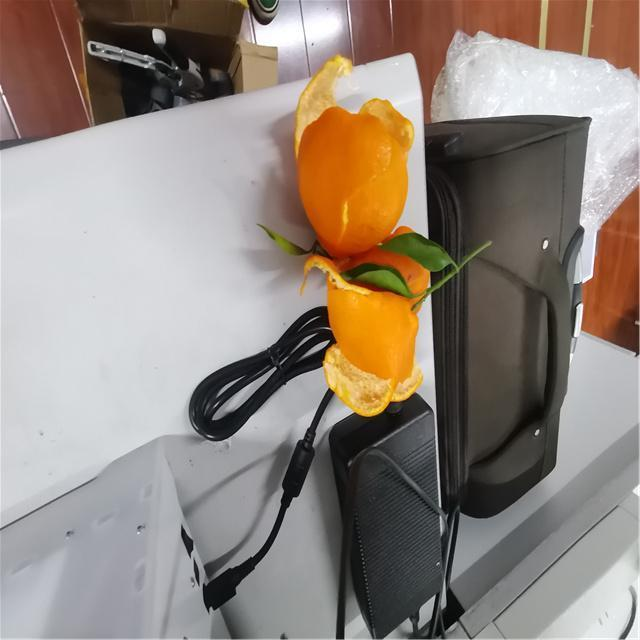orange peel: (292, 55, 436, 262), (303, 254, 427, 417)
